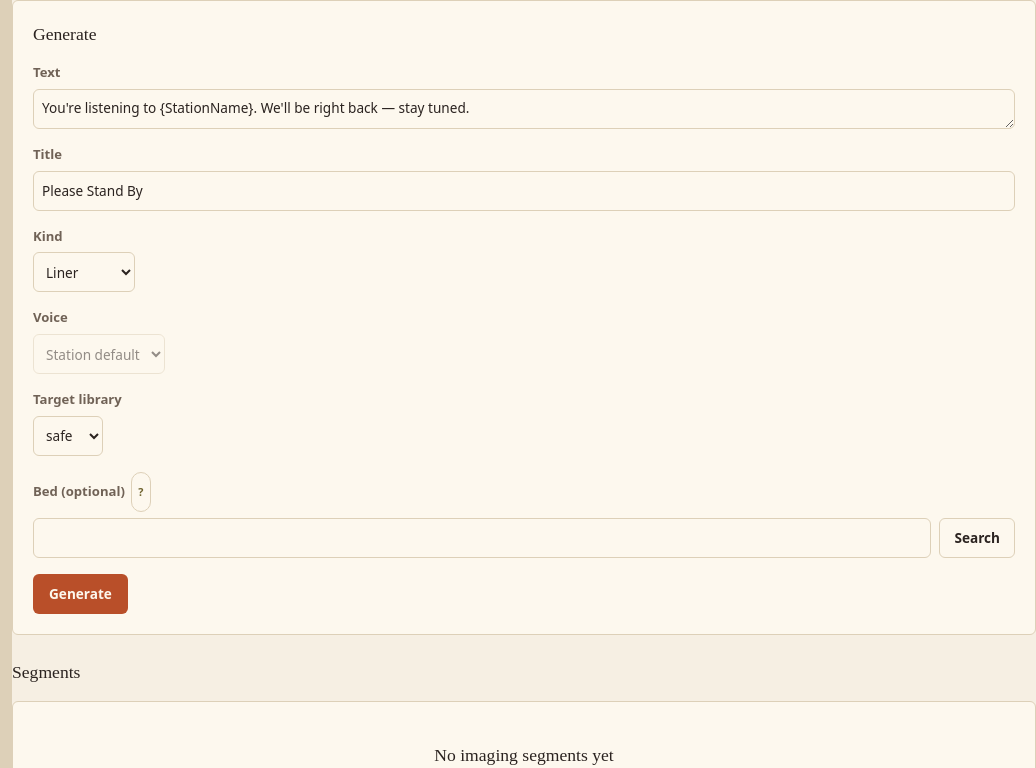
Test: Feature: Station sounds redesign › Scenario: bed picker in the new identity › renders the bed search as a styled combobox over the shipped catalog search
The width and height of the screenshot is (1036, 768).
Type "jingle" into the dropdown labelled "Bed (optional)" at (482, 538), box [33,518,931,558]
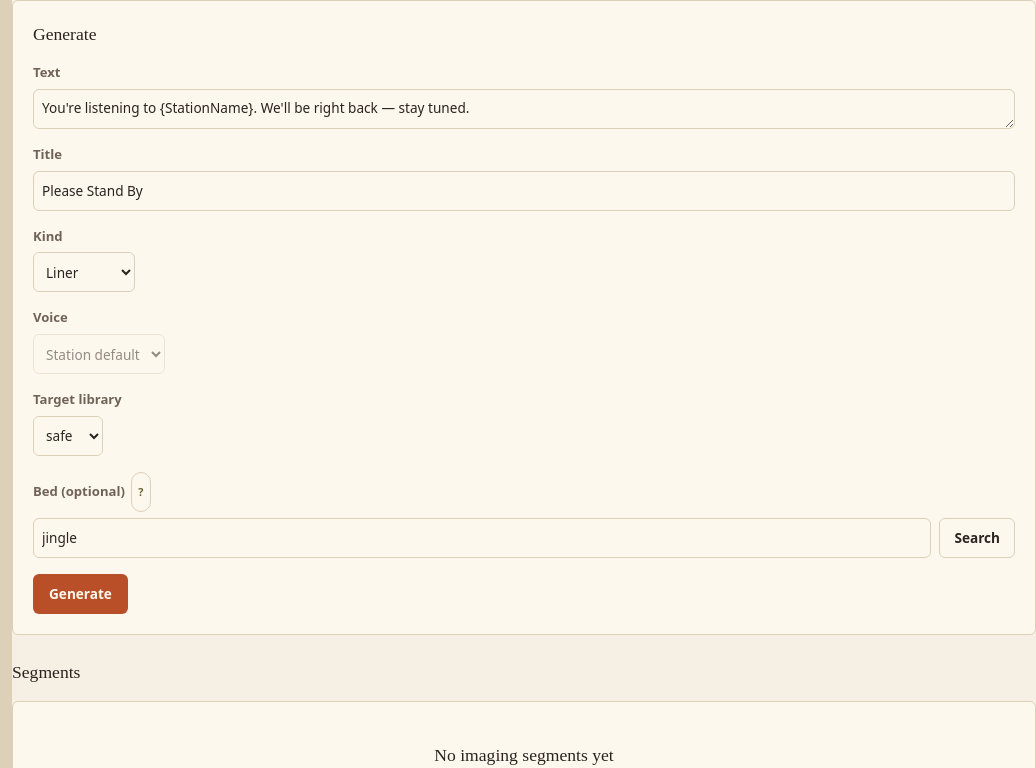
Click the button "Search" at (977, 538), box [939,518,1015,558]
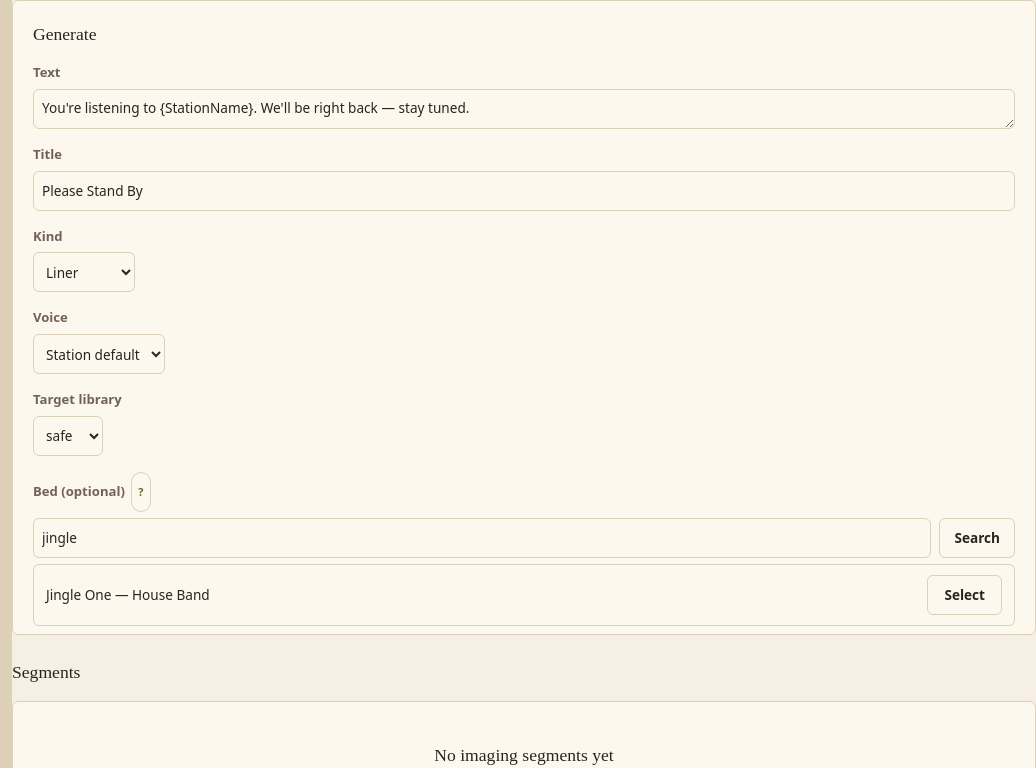
expect the list named "bed search results" is shown: met, box [33,564,1015,626]
